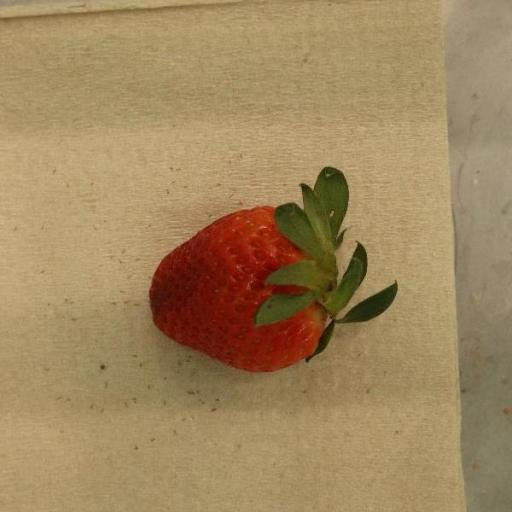Strawberry: (149, 167, 400, 373)
